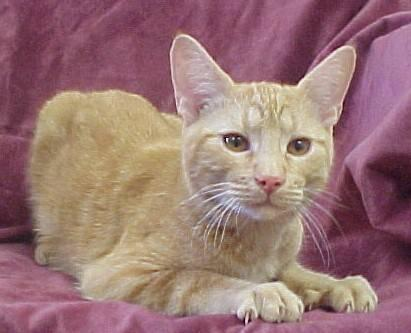cat: (27, 34, 377, 321)
